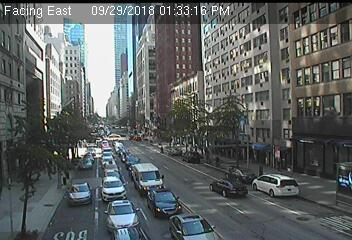car: (170, 215, 219, 240), (251, 173, 300, 198), (105, 201, 141, 232), (147, 189, 183, 218), (133, 164, 165, 195), (210, 178, 249, 199), (100, 177, 128, 200), (67, 183, 92, 207), (225, 168, 257, 184), (103, 170, 122, 184), (181, 151, 201, 163), (126, 156, 141, 169), (104, 162, 118, 175), (78, 158, 92, 169), (167, 147, 181, 157), (83, 152, 93, 160)
